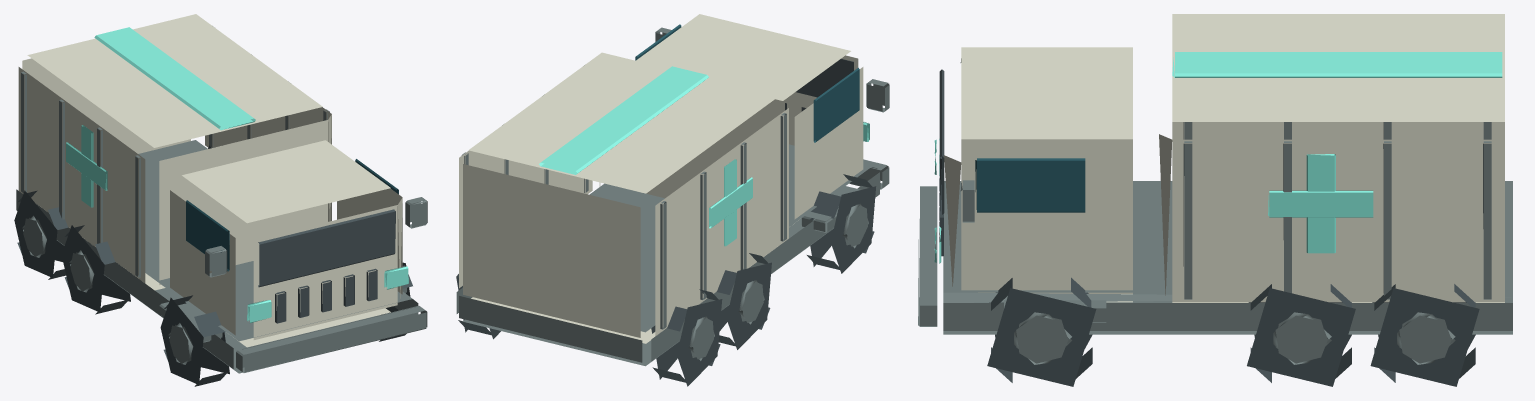
Rendered from transport.glb.
3 renders of one model, left to right at view 1: azimuth 30°, elevation 25°; view 2: azimuth 150°, elevation 25°; view 3: azimuth 270°, elevation 25°, orthographic. The views are drawn at different scales.
Visible parts, largest first — view 1: Cargo, Cab, Chassis, Windshield, RescueStripe, Detail bumper, Wheel, Wheel.001, Wheel.002, Detail side window, CrossH, CrossV (+16 smaller); view 2: Cargo, Cab, Chassis, RescueStripe, Wheel, Wheel.002, Wheel.001, Detail side window, Windshield, CrossH, Detail cargo rib, Detail cargo rib.003 (+9 smaller); view 3: Cargo, Cab, Chassis, RescueStripe, Wheel.003, Detail side window.001, Wheel.004, Wheel.005, CrossH.001, Detail bumper, CrossV.001, Detail wheel hub.005 (+8 smaller).
Part boxes in pixels (box(x1,y1,x2,y2)): Cargo: box(18, 14, 331, 290); Cab: box(170, 140, 402, 347); Chassis: box(16, 140, 418, 373); Windshield: box(258, 209, 395, 287); RescueStripe: box(94, 27, 255, 130); Detail bumper: box(236, 306, 427, 372); Wheel: box(160, 295, 229, 386); Wheel.001: box(61, 225, 130, 314); Wheel.002: box(14, 190, 68, 279); Detail side window: box(186, 200, 229, 271); CrossH: box(66, 142, 107, 190); CrossV: box(81, 125, 93, 207); Cargo: box(459, 52, 788, 343); Cab: box(636, 14, 863, 224); Chassis: box(456, 144, 879, 366); RescueStripe: box(539, 66, 708, 174); Wheel: box(807, 174, 876, 273); Wheel.002: box(651, 289, 722, 386); Wheel.001: box(716, 253, 771, 349); Detail side window: box(813, 67, 859, 142); Windshield: box(796, 58, 853, 97); CrossH: box(709, 177, 752, 228); Detail cargo rib: box(780, 113, 786, 241); Detail cargo rib.003: box(660, 201, 666, 329); Cargo: box(1159, 14, 1504, 302); Cab: box(944, 47, 1132, 302); Chassis: box(943, 181, 1512, 334); RescueStripe: box(1172, 52, 1502, 77); Wheel.003: box(987, 277, 1096, 386); Detail side window.001: box(975, 158, 1085, 212); Wheel.004: box(1247, 284, 1355, 386); Wheel.005: box(1370, 284, 1479, 386); CrossH.001: box(1268, 190, 1373, 217); Detail bumper: box(918, 186, 937, 326); CrossV.001: box(1306, 154, 1335, 253); Detail wheel hub.005: box(1397, 312, 1455, 364).
Size of the model in its own units: 2.48 by 2.13 by 4.53.
